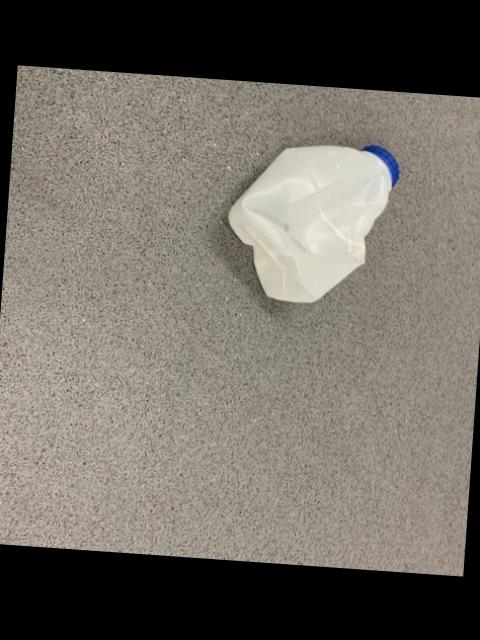plastic: (230, 143, 393, 299)
